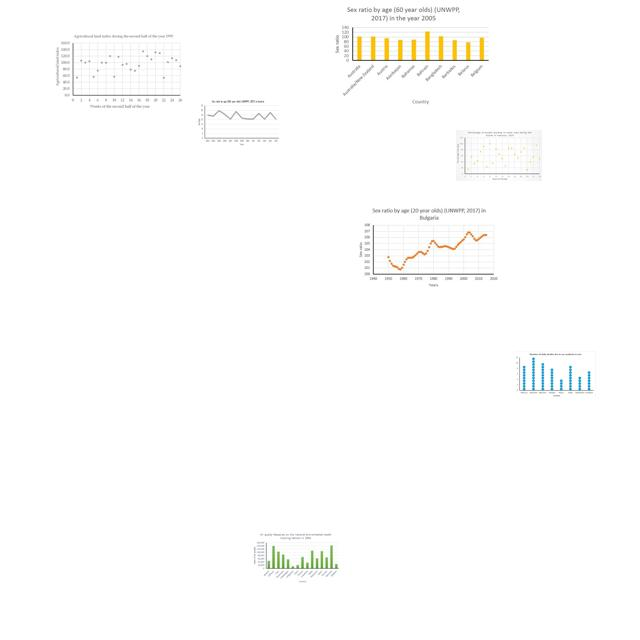Graph: (331, 2, 492, 110), (354, 204, 500, 291), (54, 33, 184, 110), (251, 531, 340, 584), (456, 130, 542, 181), (197, 99, 280, 147), (515, 351, 596, 399)
